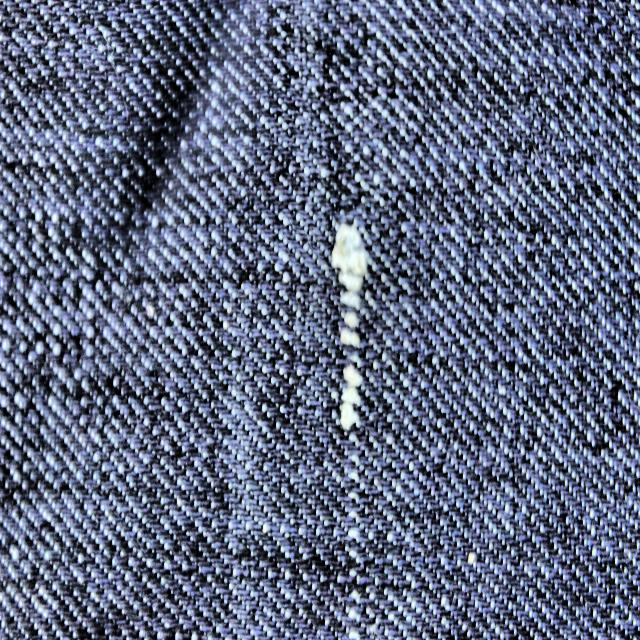Hole: (334, 215, 368, 640)
